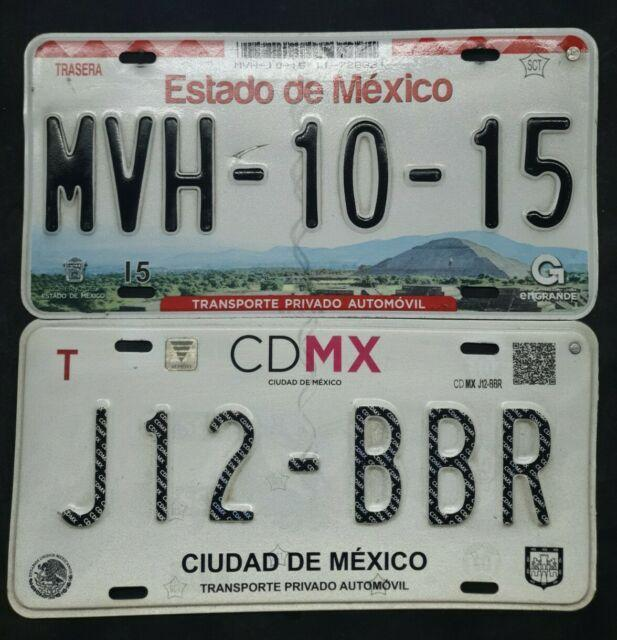Number plate: (21, 314, 615, 622), (22, 28, 611, 309)
